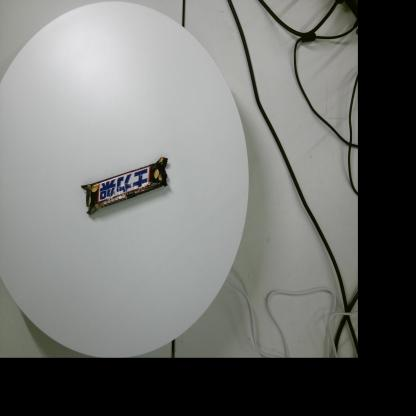Chocolate: (81, 157, 168, 215)
